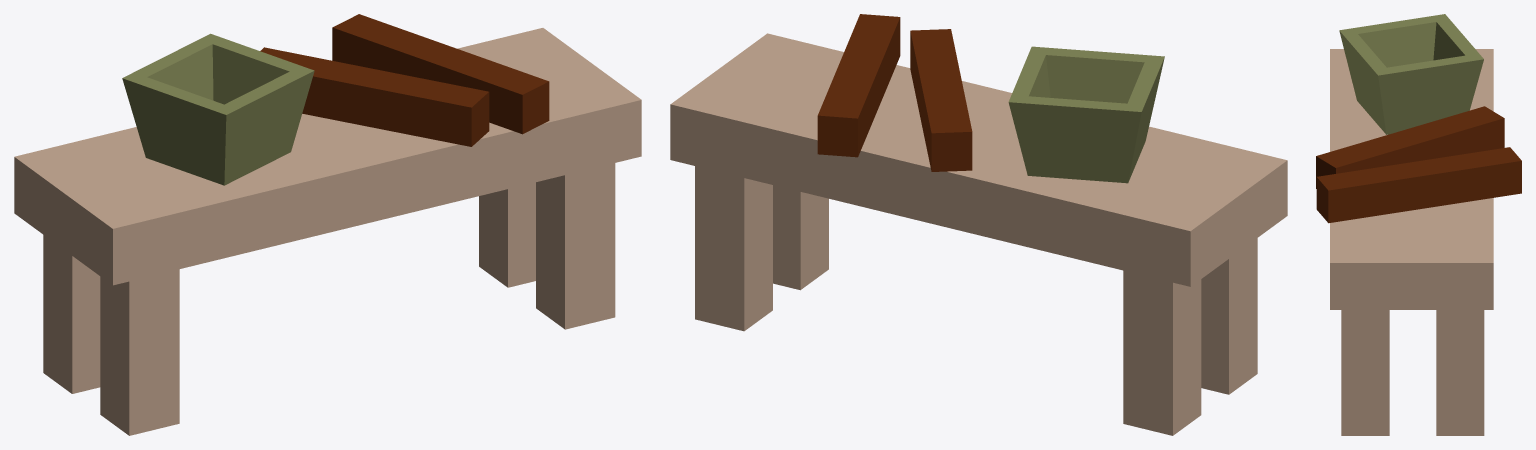
The model's file is Blacksmith Tool 04.FBX.
The picture shows the model from 3 angles, left to right: view 1: azimuth 30°, elevation 25°; view 2: azimuth 150°, elevation 25°; view 3: azimuth 270°, elevation 25°; orthographic projection. The views are drawn at different scales.
Visible parts, largest first — view 1: Blacksmith Tool 04; view 2: Blacksmith Tool 04; view 3: Blacksmith Tool 04.
Part boxes in pixels (x1,y1,x2,y2): Blacksmith Tool 04: (14, 14, 641, 435); Blacksmith Tool 04: (670, 14, 1287, 435); Blacksmith Tool 04: (1316, 14, 1521, 435).
Bounding box in the file's own units: 120 × 64.7 × 48.75.
